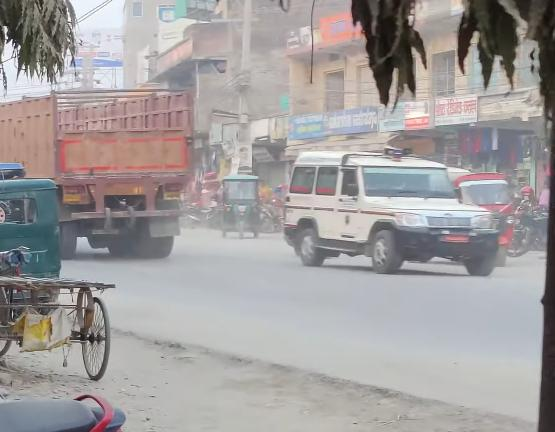ambulance: (276, 144, 505, 281)
e-rickshaw: (216, 170, 261, 242)
truck: (0, 82, 199, 257)
